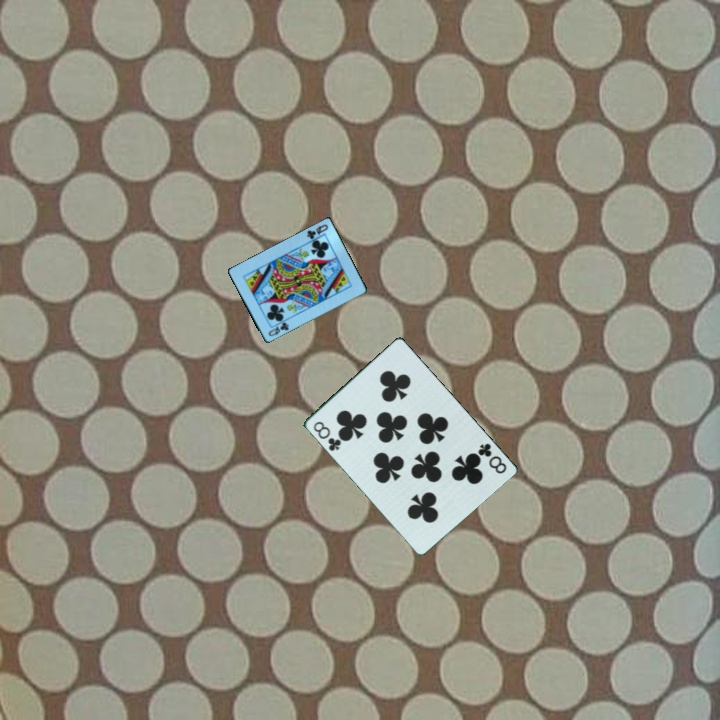8c: (474, 439, 509, 477), (309, 417, 344, 454)
Qc: (303, 221, 331, 242), (265, 319, 292, 339)
